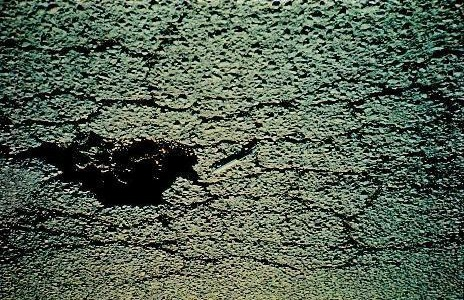pothole: (12, 126, 202, 213)
